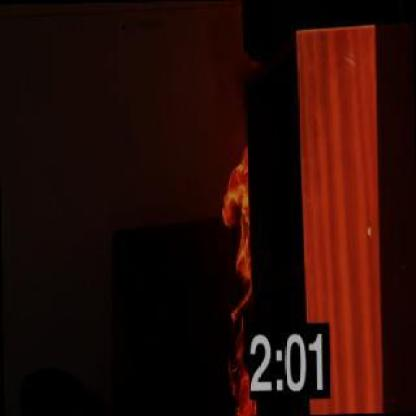Fire: (217, 144, 264, 414)
